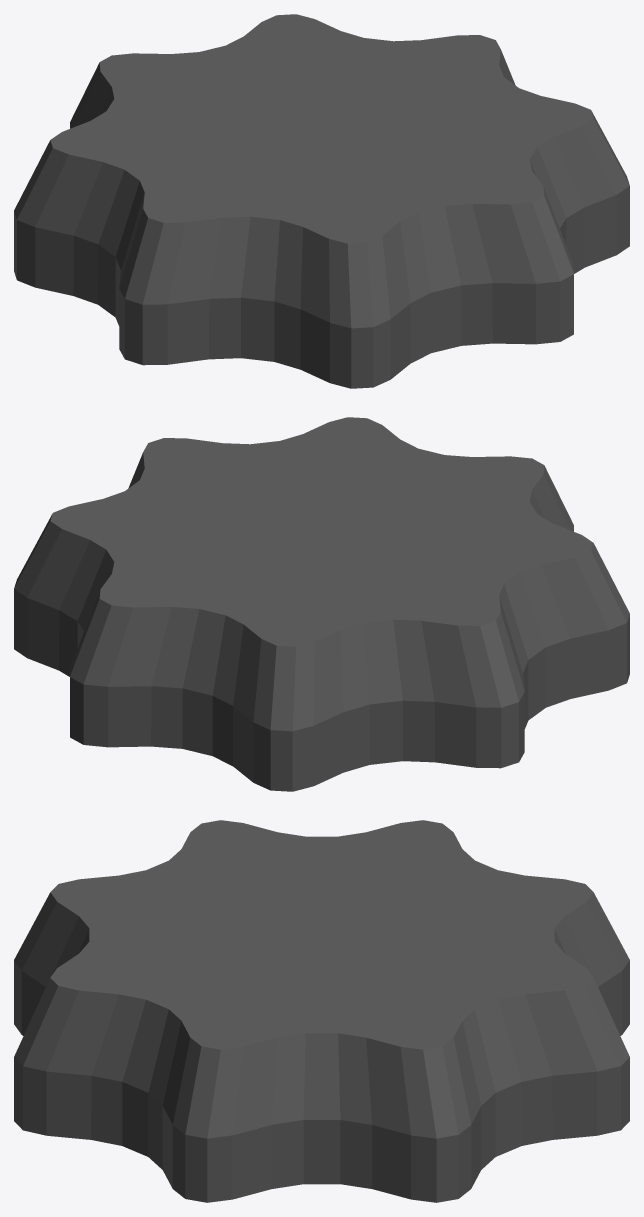
The model's file is KVDop.fbx.
3 renders of one model, top to bottom at view 1: azimuth 30°, elevation 25°; view 2: azimuth 150°, elevation 25°; view 3: azimuth 270°, elevation 25°, orthographic. The views are drawn at different scales.
Visible parts, largest first — view 1: KoelvloeistofDop; view 2: KoelvloeistofDop; view 3: KoelvloeistofDop.
Boxes of the visible parts, x1,y1,x2,y2 form: KoelvloeistofDop: (14, 14, 629, 388); KoelvloeistofDop: (14, 417, 629, 791); KoelvloeistofDop: (14, 820, 629, 1202).
Bounding box in the file's own units: 3.87 × 0.9545 × 3.87.
